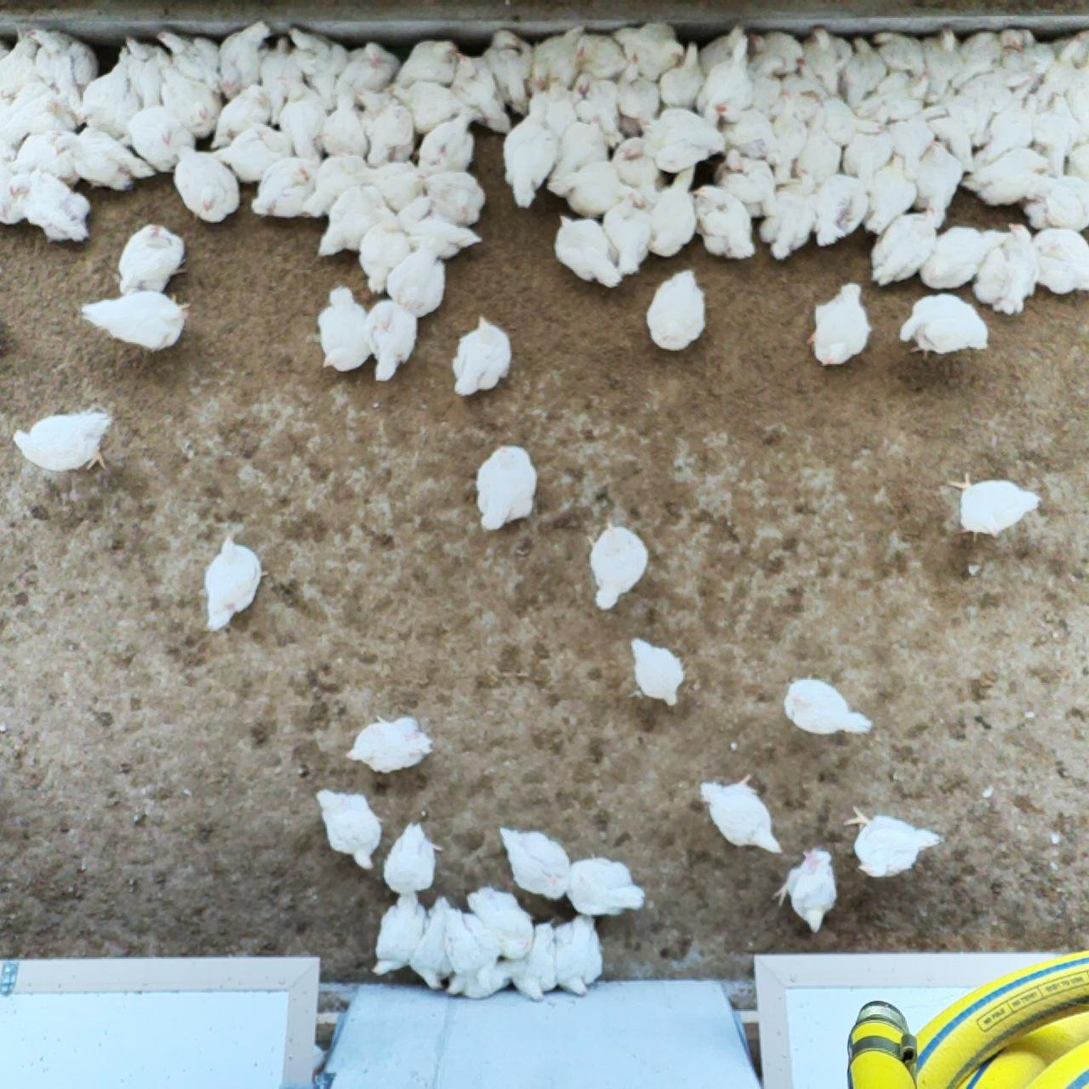chicken: (841, 802, 944, 883), (25, 24, 101, 129), (499, 90, 563, 214), (78, 289, 194, 357), (10, 405, 117, 478), (697, 767, 785, 855), (946, 468, 1043, 546), (196, 532, 272, 631), (54, 125, 161, 195), (631, 97, 726, 175), (898, 288, 993, 362), (469, 440, 543, 535), (581, 515, 653, 612), (781, 668, 878, 740), (918, 221, 1015, 292), (6, 169, 94, 247), (959, 144, 1056, 213), (972, 218, 1040, 316), (867, 200, 941, 290), (312, 785, 386, 875), (316, 180, 398, 261), (771, 845, 842, 937), (443, 905, 509, 1003), (388, 78, 490, 140), (805, 279, 873, 372), (74, 43, 139, 140), (542, 110, 611, 201), (755, 164, 819, 261), (340, 711, 434, 777), (641, 264, 709, 355), (495, 823, 571, 903), (286, 21, 351, 114), (170, 142, 243, 224), (0, 80, 72, 163), (687, 182, 757, 267), (694, 33, 757, 127), (543, 159, 641, 219), (123, 101, 200, 177), (550, 213, 625, 291), (352, 85, 419, 172), (562, 854, 649, 921), (948, 25, 1030, 96), (644, 161, 703, 259), (209, 120, 296, 186), (384, 231, 449, 318), (334, 36, 406, 114), (370, 889, 431, 981), (712, 145, 778, 230), (449, 309, 513, 396), (118, 222, 191, 298), (356, 200, 414, 295), (315, 284, 374, 377), (11, 113, 83, 189), (465, 885, 536, 962), (156, 62, 225, 141), (808, 171, 871, 257), (299, 146, 371, 221), (452, 48, 514, 135), (610, 15, 688, 84), (713, 96, 785, 170), (525, 20, 590, 101), (381, 818, 445, 899), (392, 207, 486, 262), (567, 66, 630, 148), (363, 296, 421, 385), (885, 103, 950, 182), (248, 153, 323, 221), (599, 190, 655, 281), (407, 891, 456, 995), (208, 80, 276, 154), (417, 103, 482, 180), (217, 17, 273, 105), (154, 26, 226, 94), (275, 70, 328, 162), (913, 137, 966, 229), (981, 90, 1045, 166), (864, 151, 922, 233), (259, 34, 308, 131), (792, 94, 845, 183), (553, 908, 606, 997), (310, 86, 370, 164), (955, 68, 1037, 125), (506, 916, 559, 1004), (415, 164, 490, 226), (482, 28, 533, 119), (855, 67, 937, 122), (628, 633, 685, 712), (996, 27, 1054, 104), (1033, 89, 1082, 180), (1033, 27, 1089, 106), (770, 84, 811, 186), (387, 35, 463, 90), (1031, 226, 1089, 298), (613, 136, 669, 209), (611, 50, 666, 124), (119, 33, 173, 108), (842, 101, 892, 182), (1023, 174, 1089, 235), (802, 23, 857, 96), (363, 157, 429, 216), (655, 39, 710, 109), (817, 98, 889, 150), (917, 22, 967, 96), (841, 33, 888, 111), (571, 24, 630, 85), (780, 54, 829, 125), (933, 90, 979, 164), (874, 27, 933, 82), (746, 27, 810, 77), (0, 26, 41, 103), (696, 21, 745, 79), (746, 49, 787, 109), (1065, 66, 1089, 125), (1062, 138, 1089, 180)
